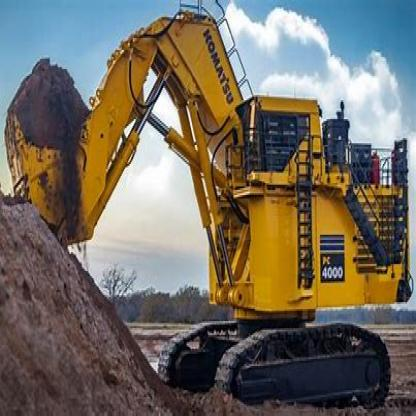excavator: (11, 11, 415, 402)
